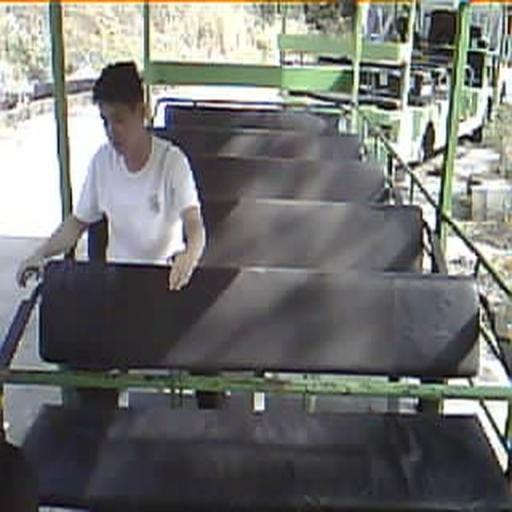persona: (16, 59, 207, 293)
